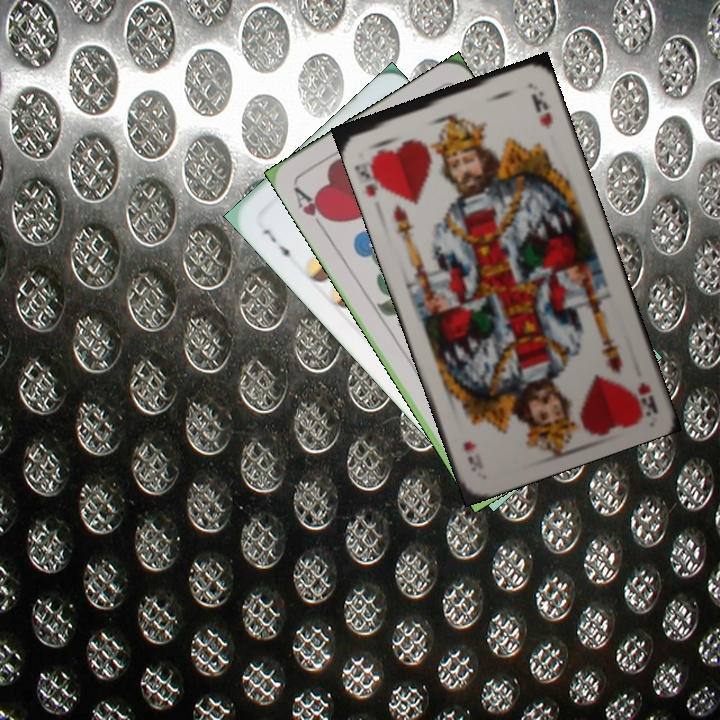E7: (259, 225, 296, 266)
HA: (290, 182, 334, 235)
HK: (352, 151, 390, 199), (633, 378, 660, 412)
